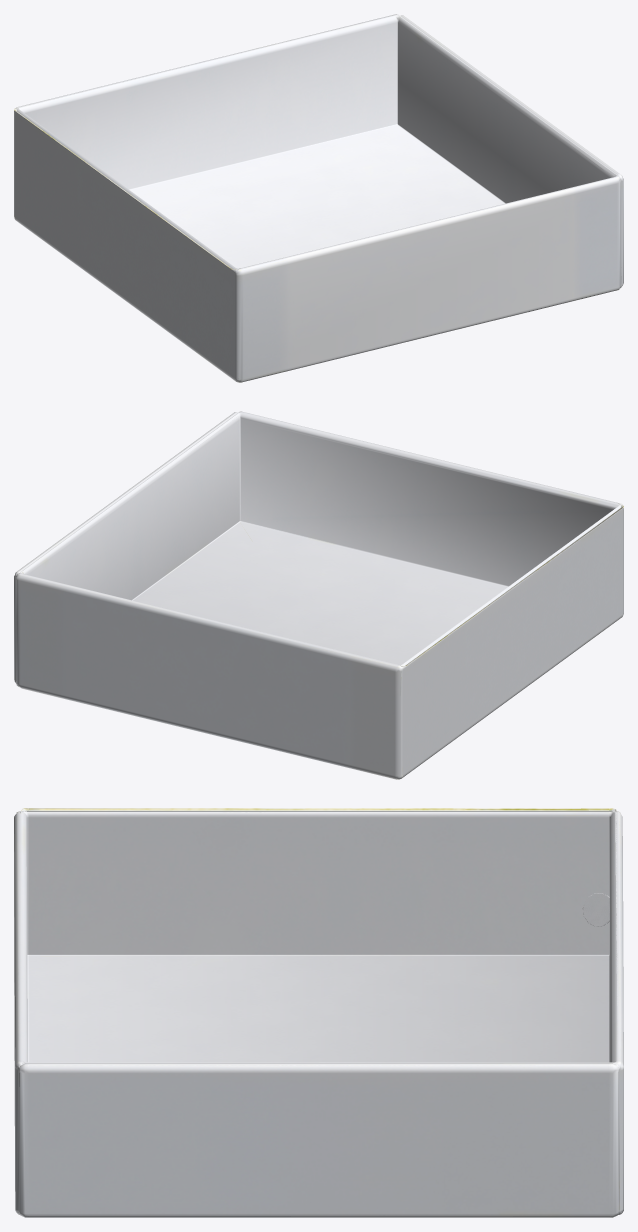
The model's file is 3d-box-white.glb.
3 views of the same model, one above another, from view 1: azimuth 30°, elevation 25°; view 2: azimuth 150°, elevation 25°; view 3: azimuth 270°, elevation 25° (orthographic). The views are drawn at different scales.
Bounding box in the file's own units: 1.9 × 0.5284 × 1.9.
1 material, 1 textured.
